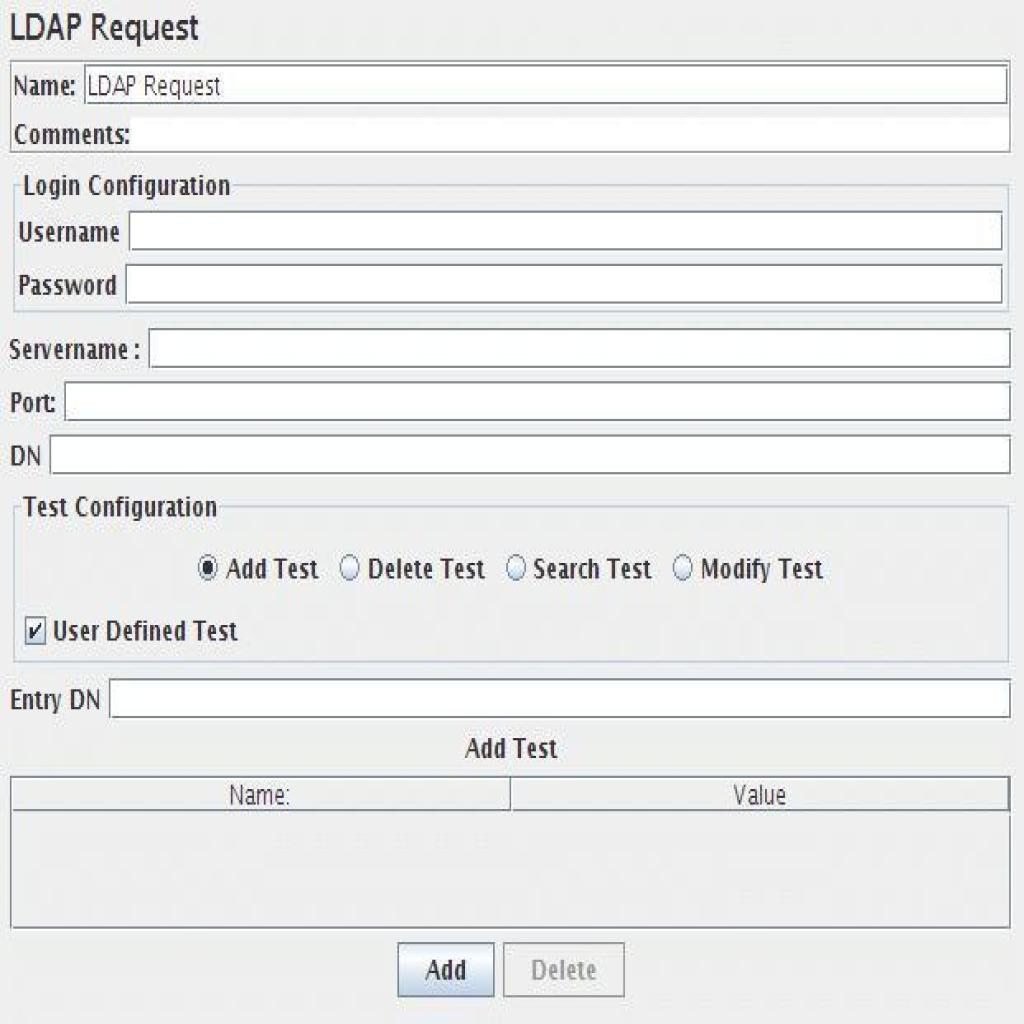button: (505, 944, 625, 998), (397, 942, 495, 997)
checkbox: (23, 614, 46, 647)
input: (109, 678, 1012, 723), (86, 66, 1008, 106), (129, 210, 1001, 252), (128, 113, 1010, 153), (150, 326, 1011, 366), (64, 383, 1011, 419), (48, 437, 1011, 472), (125, 268, 1001, 304)
label: (6, 6, 210, 48), (26, 485, 221, 523), (21, 173, 236, 204), (52, 612, 246, 645), (698, 547, 831, 594), (6, 330, 144, 368), (224, 547, 326, 594), (366, 550, 491, 587), (533, 552, 658, 589), (458, 736, 566, 769), (15, 120, 130, 150), (15, 217, 127, 246), (8, 685, 102, 718), (18, 273, 120, 299), (13, 74, 79, 106), (6, 388, 60, 417), (8, 439, 46, 474)
radio: (332, 548, 366, 590), (498, 548, 531, 588), (666, 550, 698, 585), (195, 546, 221, 588)
